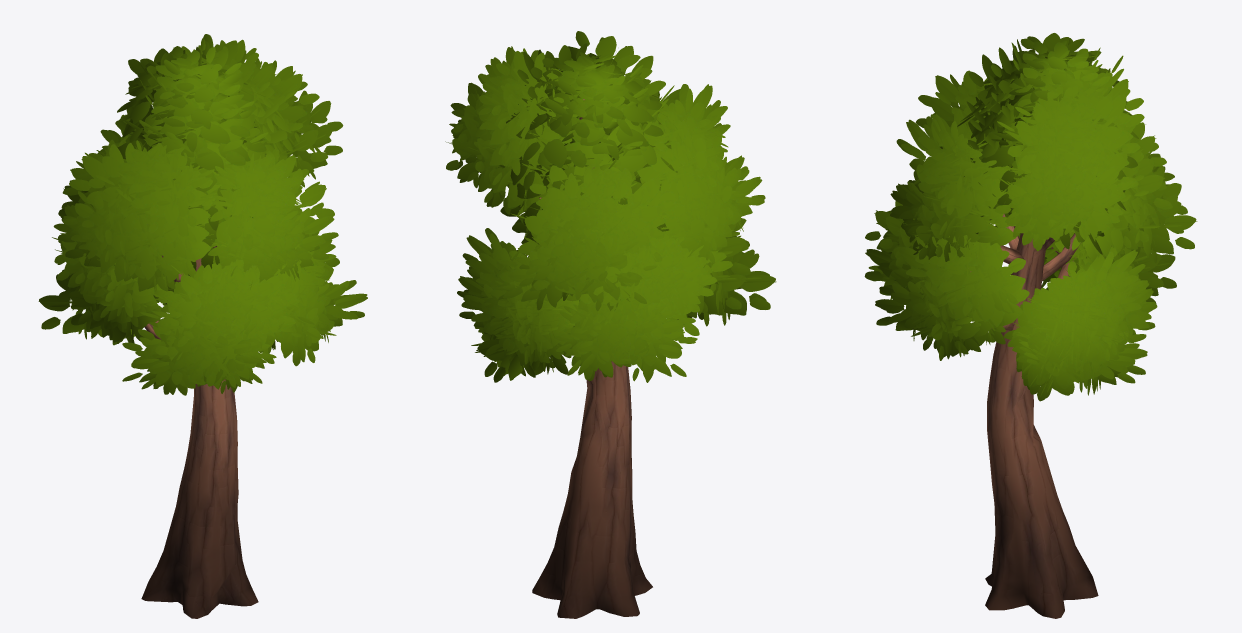
Rendered from n_commontree_1.glb.
The picture shows the model from 3 angles, left to right: view 1: azimuth 30°, elevation 25°; view 2: azimuth 150°, elevation 25°; view 3: azimuth 270°, elevation 25°; orthographic projection. The views are drawn at different scales.
Visible parts, largest first — view 1: CommonTree_1; view 2: CommonTree_1; view 3: CommonTree_1.
Boxes of the visible parts, x1,y1,x2,y2 form: CommonTree_1: (38, 34, 367, 618); CommonTree_1: (445, 31, 776, 618); CommonTree_1: (864, 33, 1197, 618).
Size of the model in its own units: 4.31 by 7.26 by 4.58.
Materials: 2 (2 with a texture image).
